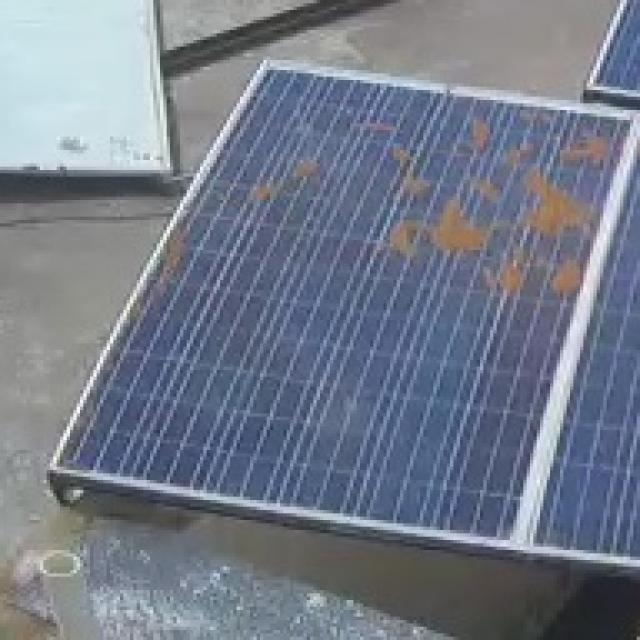Dusty: (390, 195, 499, 265), (518, 162, 603, 245), (136, 212, 191, 312), (243, 154, 323, 208), (382, 146, 436, 201), (564, 123, 626, 168), (483, 260, 535, 296), (548, 249, 580, 305), (467, 172, 505, 205), (467, 114, 500, 147), (499, 143, 537, 171), (352, 120, 406, 139), (508, 106, 561, 125)
